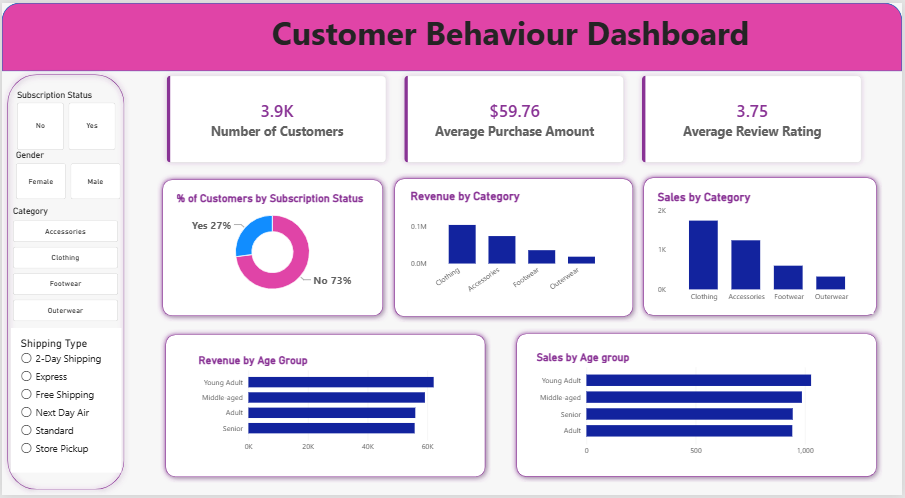

The page's visual inventory and layout, read from the dashboard file:
{"tool":"powerbi","page":{"name":"Page 1","canvas":[1500,820],"ordinal":0},"visuals":[{"type":"cardVisual","fields":{"Data":["public customer.Number of Customers","public customer.Average Purchase Amount","public customer.Average Review Rating"]},"box":[262.9,110,1180.4,167.9],"z":0},{"type":"shape","box":[0,0,1500,113.8],"z":1000},{"type":"textbox","box":[432.2,11.5,832.2,132.2],"z":2000},{"type":"shape","box":[258.6,285.7,385.7,245.7],"z":3000},{"type":"donutChart","title":"% of Customers by Subscription Status","fields":{"Category":["public customer.subscription_status"],"Y":["CountNonNull(public customer.customer_id)"]},"box":[274.3,300,351.4,211.4],"z":4000},{"type":"shape","box":[644.3,282.9,415.7,248.6],"z":5000},{"type":"shape","box":[1060,281.4,407.1,248.2],"z":6000},{"type":"clusteredColumnChart","title":"Revenue by Category","fields":{"Category":["public customer.category"],"Y":["Sum(public customer.purchase_amount)"]},"box":[664.3,297.1,368.6,218.6],"z":7000},{"type":"clusteredColumnChart","title":"Sales by Category","fields":{"Category":["public customer.category"],"Y":["CountNonNull(public customer.customer_id)"]},"box":[1077.1,298.6,375.7,220],"z":8000},{"type":"shape","box":[0,110,212.9,710],"z":9000},{"type":"advancedSlicerVisual","title":"Subscription Status","fields":{"Values":["public customer.subscription_status"]},"box":[24.3,144.3,165.7,100],"z":10000},{"type":"advancedSlicerVisual","title":"Gender","fields":{"Values":["public customer.gender"]},"box":[22.9,244.3,175.7,82.9],"z":11000},{"type":"advancedSlicerVisual","title":"Category","fields":{"Values":["public customer.category"]},"box":[18.6,338.6,175.7,202.9],"z":12000},{"type":"listSlicer","title":"Shipping Type","fields":{"Values":["public customer.shipping_type"]},"box":[14.3,541.4,184.3,241.4],"z":13000},{"type":"shape","box":[262.9,542.9,551.4,255.7],"z":14000},{"type":"shape","box":[848.6,541.4,618.6,257.1],"z":16000},{"type":"clusteredBarChart","title":"Revenue by Age Group","fields":{"Category":["public customer.age_group"],"Y":["Sum(public customer.purchase_amount)"]},"box":[311.4,570,472.9,198.6],"z":16500},{"type":"clusteredBarChart","title":"Sales by Age group","fields":{"Category":["public customer.age_group"],"Y":["CountNonNull(public customer.customer_id)"]},"box":[875.7,565.7,567.1,210],"z":17000}]}

Visuals, with their boxes in screenshot pixels (x1, y1, x2, y2), scaled from the page's 1500x820 canvas onto the 905x498 screenshot:
cardVisual - public customer.Number of Customers x public customer.Average Purchase Amount: locate(159, 67, 871, 169)
shape: locate(0, 0, 904, 69)
textbox: locate(261, 7, 763, 87)
shape: locate(156, 174, 389, 323)
"% of Customers by Subscription Status" donutChart: locate(165, 182, 378, 311)
shape: locate(389, 172, 640, 323)
shape: locate(640, 171, 885, 322)
"Revenue by Category" clusteredColumnChart: locate(401, 180, 623, 313)
"Sales by Category" clusteredColumnChart: locate(650, 181, 877, 315)
shape: locate(0, 67, 128, 497)
"Subscription Status" advancedSlicerVisual: locate(15, 88, 115, 148)
"Gender" advancedSlicerVisual: locate(14, 148, 120, 199)
"Category" advancedSlicerVisual: locate(11, 206, 117, 329)
"Shipping Type" listSlicer: locate(9, 329, 120, 475)
shape: locate(159, 330, 491, 485)
shape: locate(512, 329, 885, 485)
"Revenue by Age Group" clusteredBarChart: locate(188, 346, 473, 467)
"Sales by Age group" clusteredBarChart: locate(528, 344, 870, 471)
